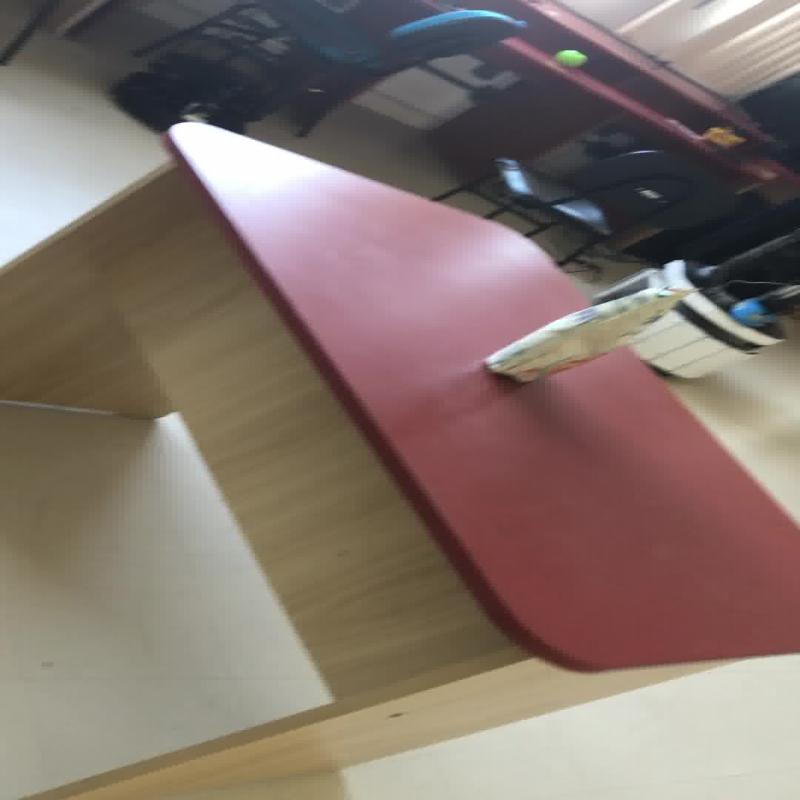corn flakes: (481, 283, 696, 384)
